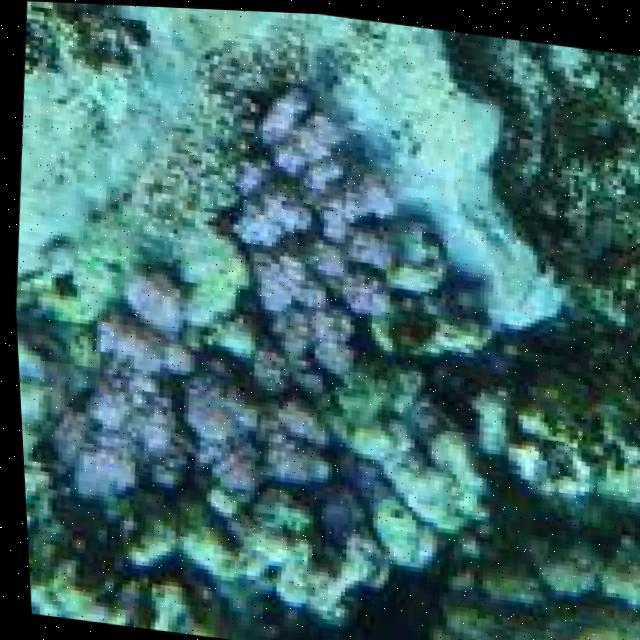Healthy Coral: (14, 90, 466, 574)
